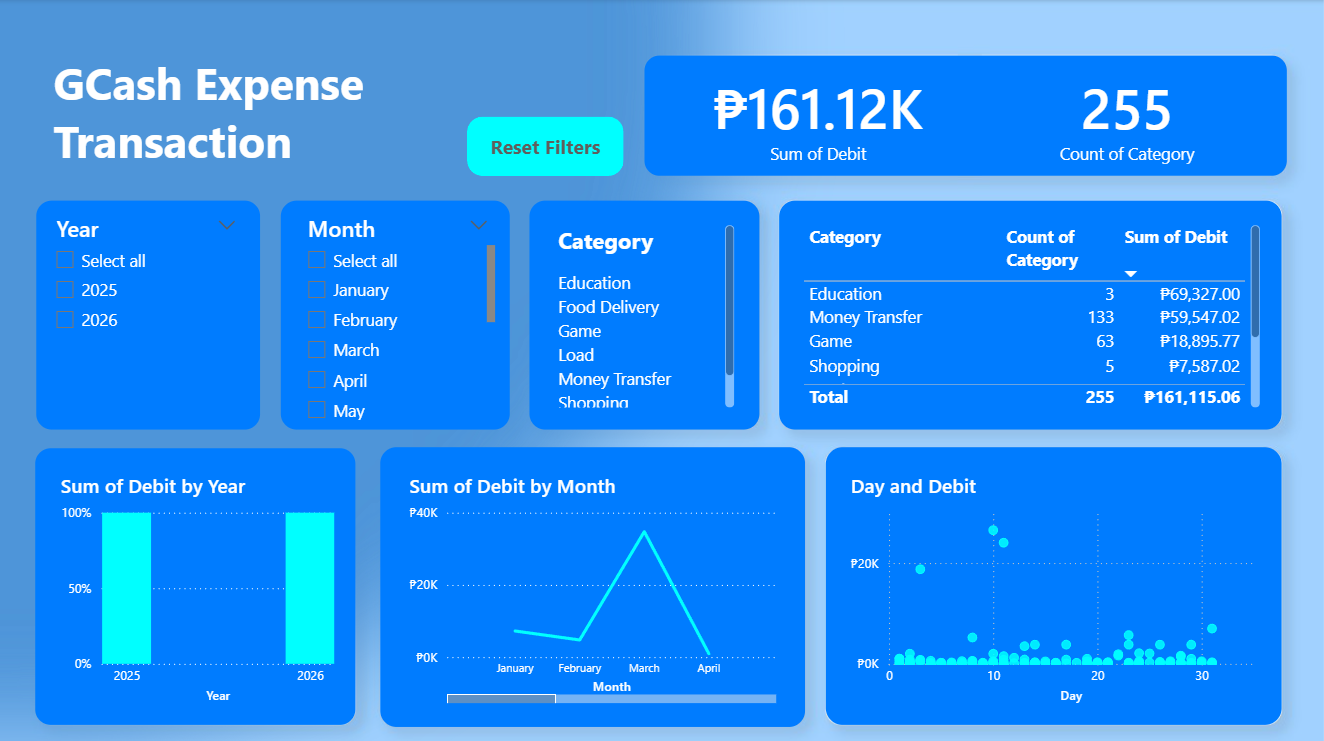

Layout of this report page (visuals, bound fields, positions):
{"tool":"powerbi","page":{"name":"Page 1","canvas":[1280,720],"ordinal":0},"visuals":[{"type":"hundredPercentStackedColumnChart","fields":{"Category":["GCashData (2).Date and Time.Variation.Date Hierarchy.Year"],"Y":["Sum(GCashData (2).Debit)"]},"box":[50,445,288.3,246.7],"z":9000},{"type":"lineChart","fields":{"Category":["GCashData (2).Date and Time.Variation.Date Hierarchy.Month"],"Y":["Sum(GCashData (2).Debit)"]},"box":[386.2,445,380,246.2],"z":10000},{"type":"card","fields":{"Values":["Sum(GCashData (2).Debit)"]},"box":[652.7,56.7,279.9,114.6],"z":11000},{"type":"scatterChart","fields":{"X":["GCashData (2).Date and Time.Variation.Date Hierarchy.Day"],"Y":["GCashData (2).Debit"]},"box":[811.7,445,420,246.7],"z":13000},{"type":"tableEx","fields":{"Values":["GCashData (2).Category","CountNonNull(GCashData (2).Category)","Sum(GCashData (2).Debit)"]},"box":[766.7,206.7,465,200],"z":14000},{"type":"slicer","fields":{"Values":["GCashData (2).Date and Time.Variation.Date Hierarchy.Year"]},"box":[50,206.7,188.3,200],"z":16000},{"type":"card","fields":{"Values":["CountNonNull(GCashData (2).Category)"]},"box":[950.7,56.7,279.9,114.6],"z":17000},{"type":"textbox","box":[50,46.2,420,150],"z":18000},{"type":"tableEx","fields":{"Values":["GCashData (2).Category"]},"box":[523.8,206.2,200,200],"z":18001},{"type":"slicer","fields":{"Values":["GCashData (2).Date and Time.Variation.Date Hierarchy.Month"]},"box":[292.5,206.2,188.8,200],"z":18002},{"type":"actionButton","box":[453.8,113.8,151.2,57.5],"z":18003}]}

Visuals, with their boxes in screenshot pixels (x1, y1, x2, y2), scaled from the page's 1280x720 canvas onto the 1324x741 screenshot:
hundredPercentStackedColumnChart - GCashData (2).Date and Time.Variation.Date Hierarchy.Year x Sum(GCashData (2).Debit): rect(52, 458, 350, 712)
lineChart - GCashData (2).Date and Time.Variation.Date Hierarchy.Month x Sum(GCashData (2).Debit): rect(399, 458, 793, 711)
card - Sum(GCashData (2).Debit): rect(675, 58, 965, 176)
scatterChart - GCashData (2).Date and Time.Variation.Date Hierarchy.Day x GCashData (2).Debit: rect(840, 458, 1274, 712)
tableEx - GCashData (2).Category x CountNonNull(GCashData (2).Category): rect(793, 213, 1274, 419)
slicer - GCashData (2).Date and Time.Variation.Date Hierarchy.Year: rect(52, 213, 246, 419)
card - CountNonNull(GCashData (2).Category): rect(983, 58, 1273, 176)
textbox: rect(52, 48, 486, 202)
tableEx - GCashData (2).Category: rect(542, 212, 749, 418)
slicer - GCashData (2).Date and Time.Variation.Date Hierarchy.Month: rect(303, 212, 498, 418)
actionButton: rect(469, 117, 626, 176)
